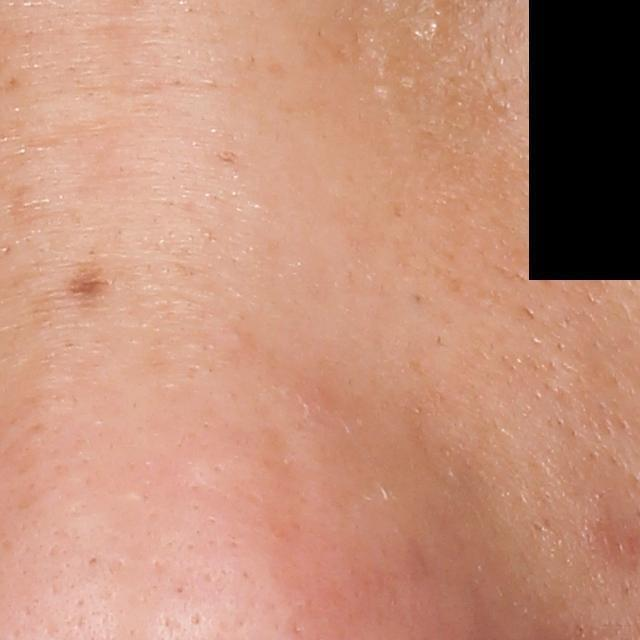melasma: (64, 254, 117, 315)
